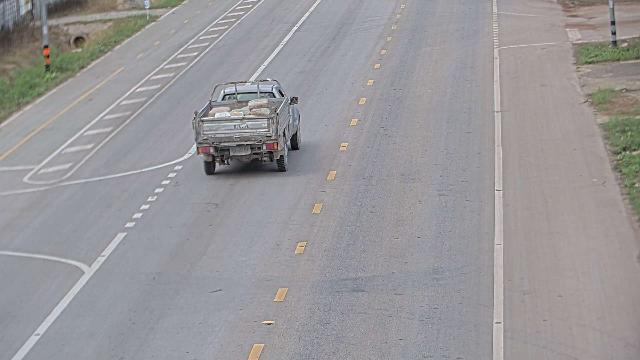pickup-truck: (191, 77, 302, 175)
